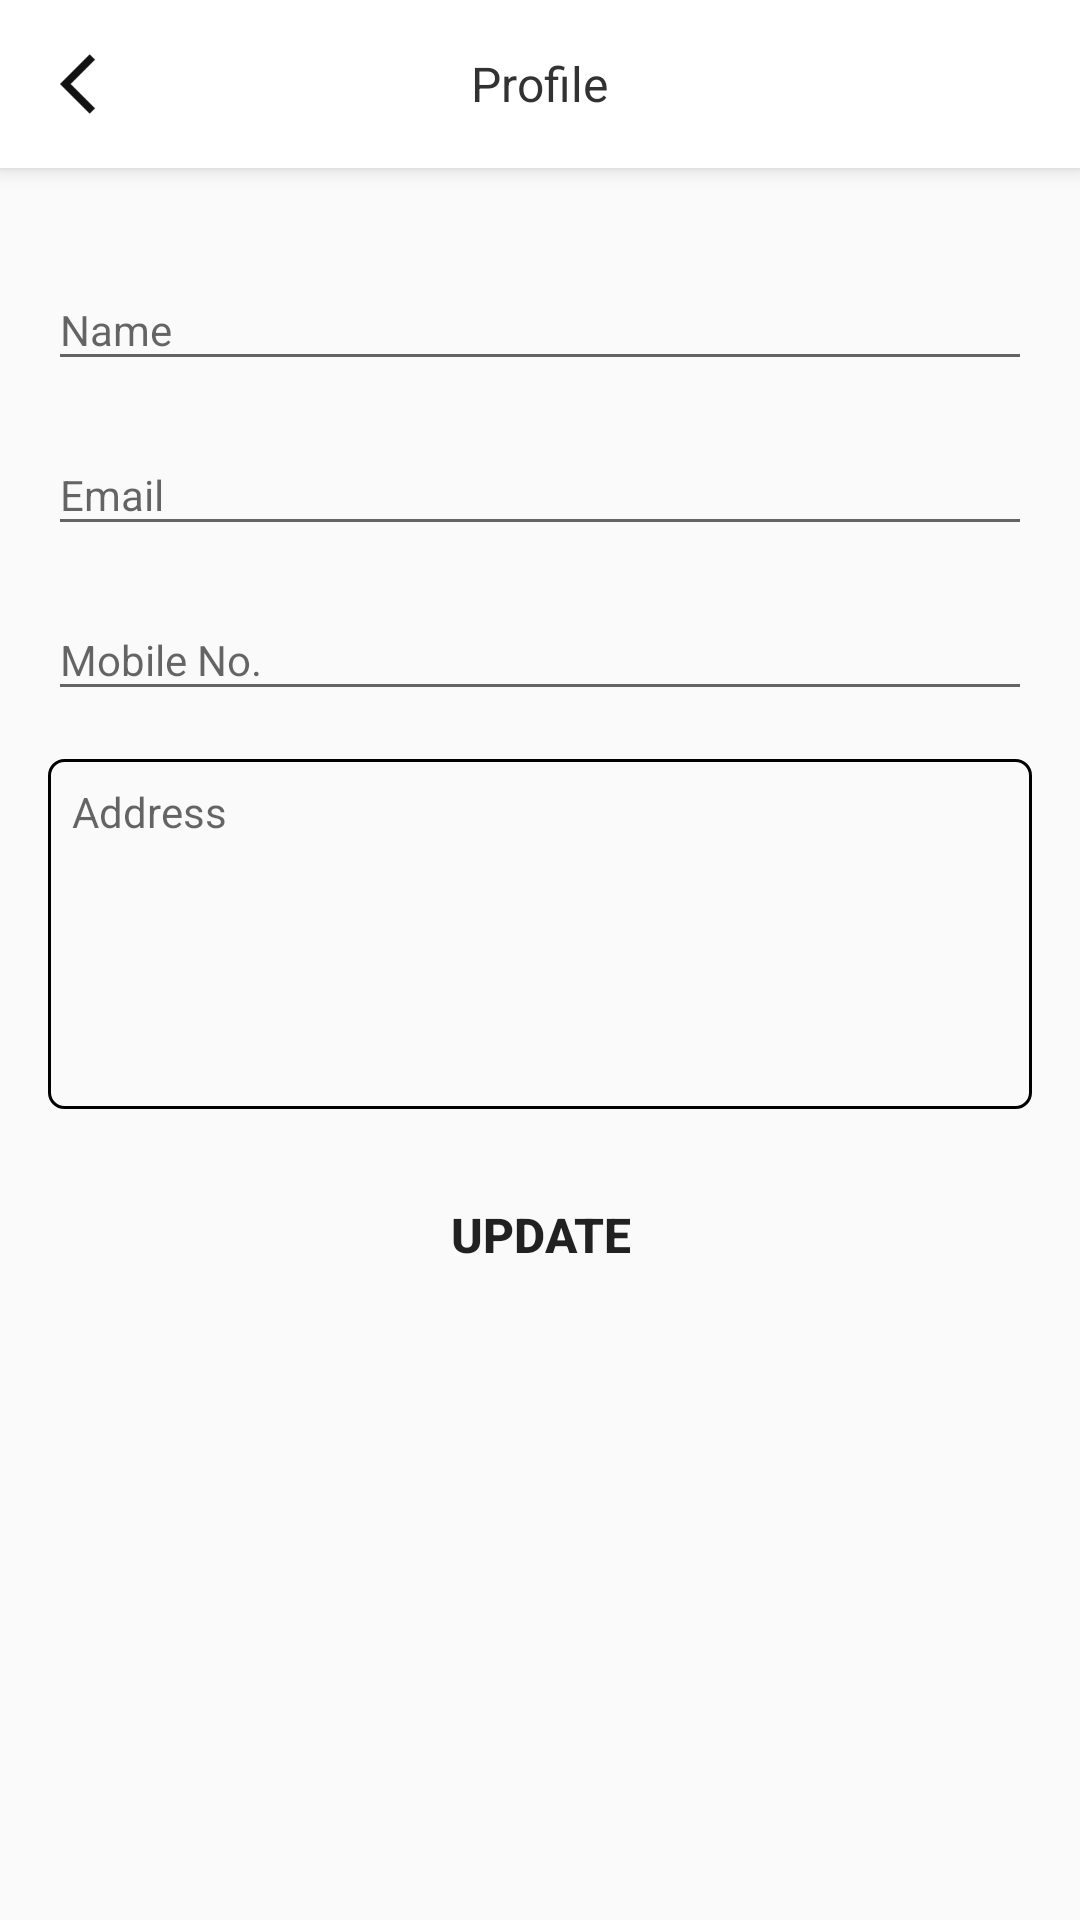

Named icons in this screenshot (1080 × 1920) and their centers, point (x, y):
back: point (77, 84)
